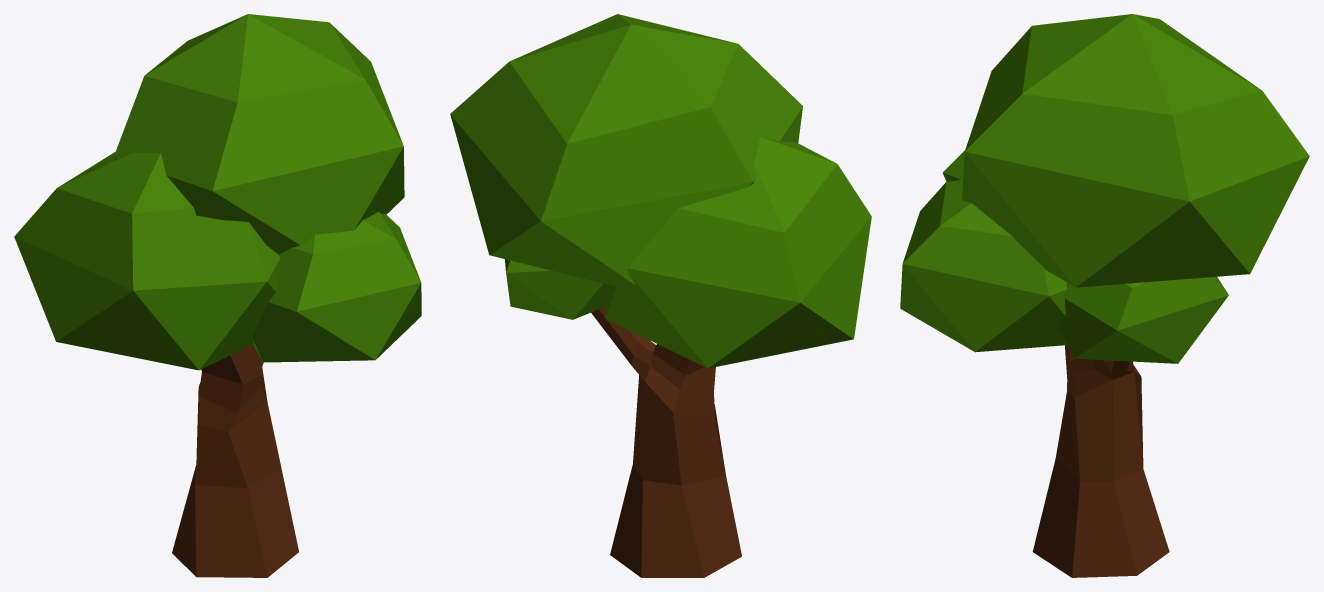
The model's file is OakTree2.fbx.
3 renders of one model, left to right at view 1: azimuth 30°, elevation 25°; view 2: azimuth 150°, elevation 25°; view 3: azimuth 270°, elevation 25°, orthographic. The views are drawn at different scales.
Visible parts, largest first — view 1: Icosphere; view 2: Icosphere; view 3: Icosphere.
Boxes of the visible parts, x1,y1,x2,y2 form: Icosphere: (14, 14, 421, 577); Icosphere: (450, 14, 871, 577); Icosphere: (900, 14, 1309, 577).
Size of the model in its own units: 6.2 by 8.71 by 5.85.
